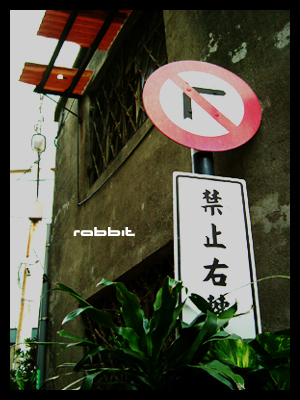No_right_turn: (143, 59, 263, 152)
